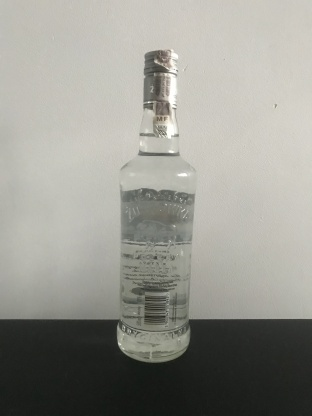nakretka: (141, 47, 180, 110)
